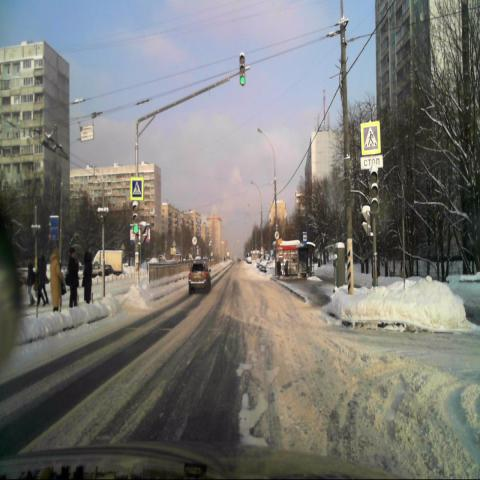6_16: (360, 155, 382, 169)
